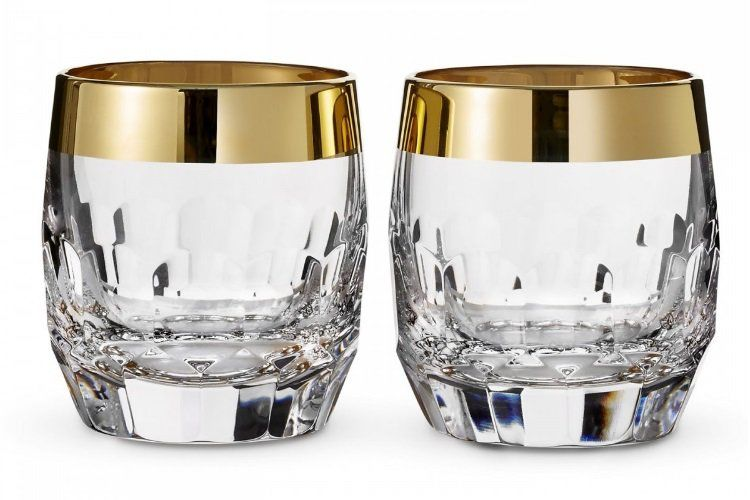Nonrec_Glass: (385, 53, 729, 457), (29, 53, 370, 456)
